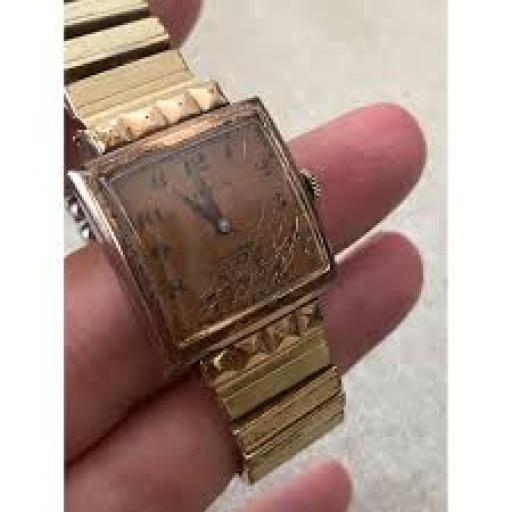KolSaati: (64, 0, 381, 483)
